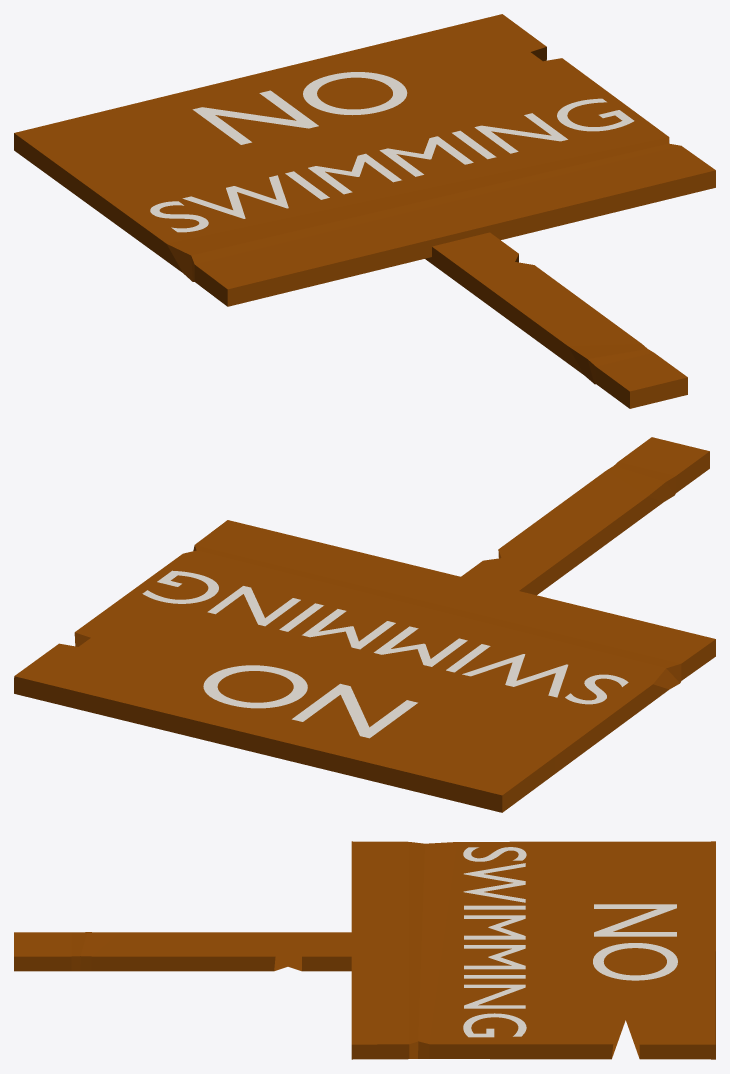
File: wood SIGN.fbx
3 views of the same model, one above another, from view 1: azimuth 30°, elevation 25°; view 2: azimuth 150°, elevation 25°; view 3: azimuth 270°, elevation 25° (orthographic). The views are drawn at different scales.
Parts seen in each view (by area): view 1: Cube.003, Cube.001, Text.001, Text; view 2: Cube.003, Cube.001, Text.001, Text; view 3: Cube.003, Cube.001, Text.001, Text.
Boxes of the visible parts, bbox=[...] form: Cube.003: bbox=[14, 14, 715, 306]; Cube.001: bbox=[425, 232, 687, 408]; Text.001: bbox=[150, 98, 634, 232]; Text: bbox=[192, 72, 407, 144]; Cube.003: bbox=[14, 520, 715, 812]; Cube.001: bbox=[461, 437, 709, 595]; Text.001: bbox=[142, 570, 628, 704]; Text: bbox=[203, 665, 417, 738]; Cube.003: bbox=[351, 841, 715, 1059]; Cube.001: bbox=[14, 932, 351, 971]; Text.001: bbox=[463, 847, 526, 1037]; Text: bbox=[593, 904, 677, 980].
Bounding box in the file's own units: 1334 × 72.84 × 1949.
